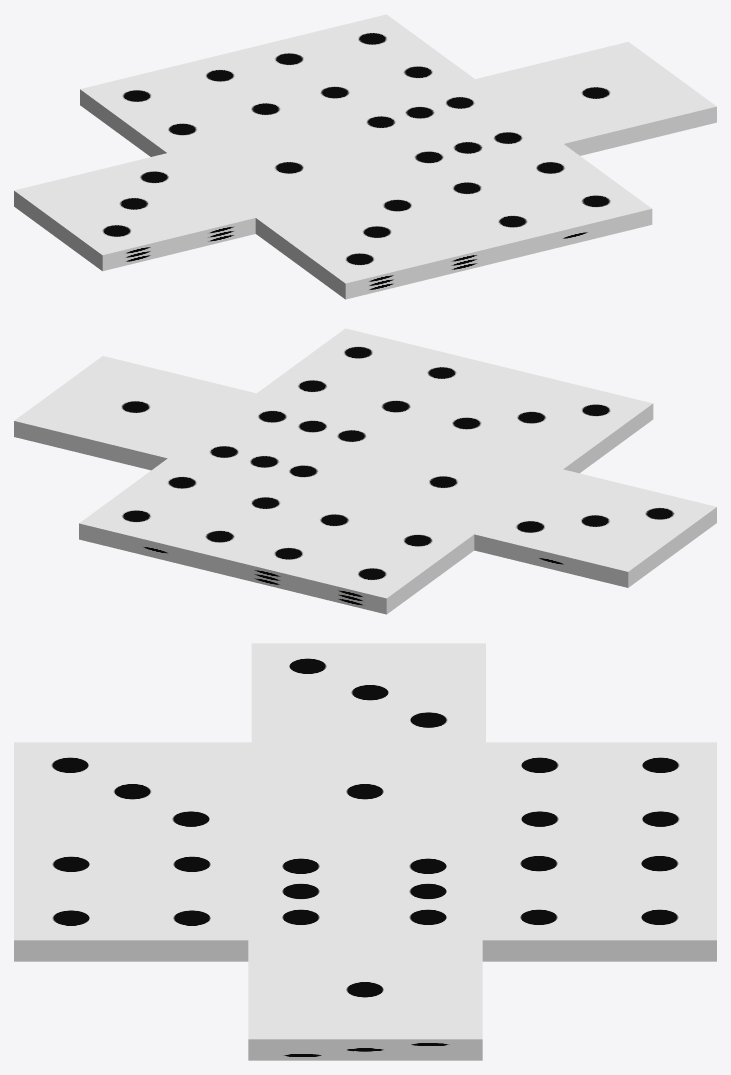
File: blocks_2.glb
3 views of the same model, one above another, from view 1: azimuth 30°, elevation 25°; view 2: azimuth 150°, elevation 25°; view 3: azimuth 270°, elevation 25° (orthographic). The views are drawn at different scales.
Parts seen in each view (by area): view 1: Cube.004, Cube.006, Cube.002, Cube.005, Cube.003, Cube, Cube.001, Cube.007; view 2: Cube.006, Cube.003, Cube.007, Cube.005, Cube.004, Cube.001, Cube.002, Cube; view 3: Cube.002, Cube.005, Cube.007, Cube, Cube.001, Cube.003, Cube.004, Cube.006.
Boxes of the visible parts, x1,y1,x2,y2 form: Cube.004: [257, 181, 498, 299]; Cube.006: [14, 153, 255, 271]; Cube.002: [411, 144, 652, 261]; Cube.005: [475, 42, 716, 155]; Cube.003: [80, 52, 321, 156]; Cube: [169, 116, 409, 234]; Cube.001: [322, 79, 563, 181]; Cube.007: [233, 14, 474, 116]; Cube.006: [474, 469, 716, 587]; Cube.003: [233, 496, 475, 614]; Cube.007: [79, 458, 320, 576]; Cube.005: [14, 356, 256, 470]; Cube.004: [411, 366, 653, 473]; Cube.001: [168, 393, 409, 495]; Cube.002: [257, 328, 498, 430]; Cube: [322, 431, 564, 533]; Cube.002: [14, 841, 248, 961]; Cube.005: [248, 940, 482, 1060]; Cube.007: [482, 841, 716, 961]; Cube: [248, 742, 482, 841]; Cube.001: [248, 841, 482, 940]; Cube.003: [482, 742, 716, 841]; Cube.004: [14, 742, 248, 841]; Cube.006: [251, 643, 485, 742].
Size of the model in its own units: 8 by 0.2 by 6.
1 material, 1 textured.
